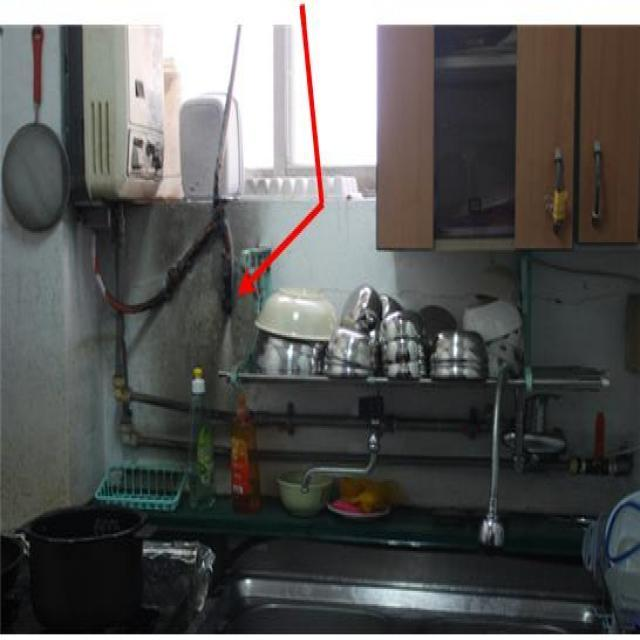Boiler: (47, 18, 197, 224)
